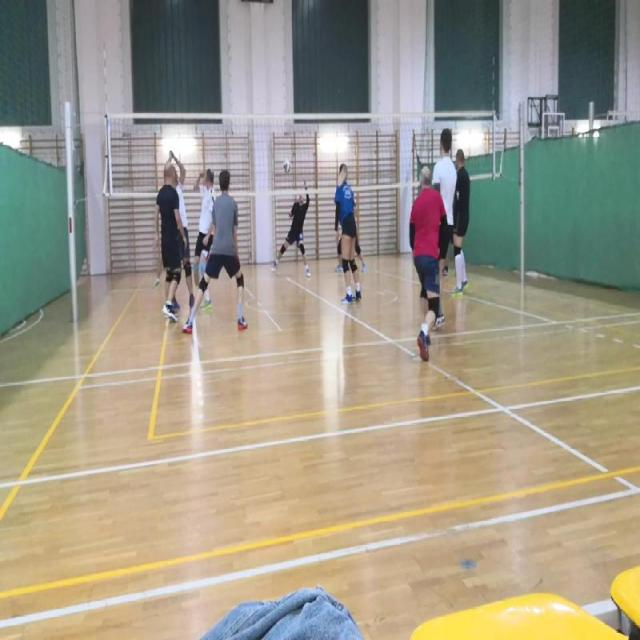volleyball: (282, 160, 290, 173)
